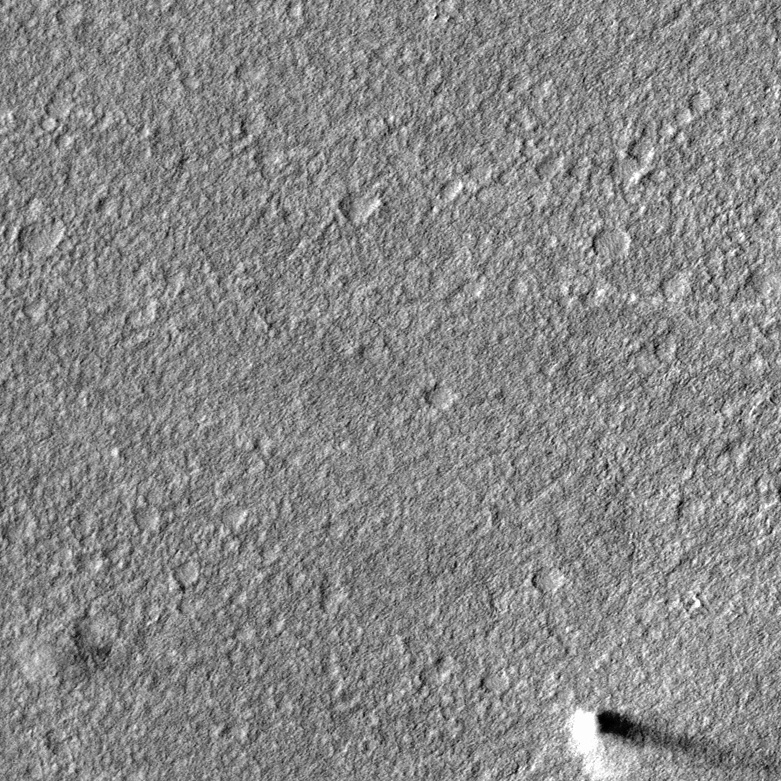dust_devil: (567, 707, 781, 781)
